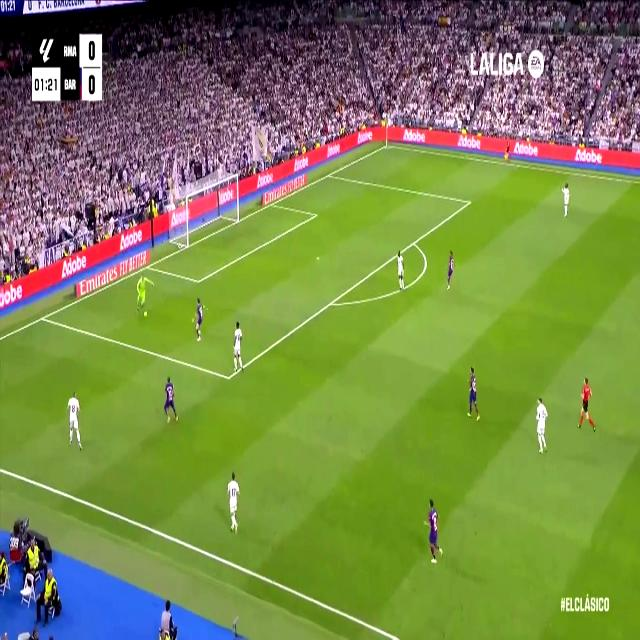bigarea_bottom_inner: (224, 368, 233, 388)
bigarea_bottom_outter: (38, 310, 48, 326)
bigarea_top_inner: (466, 195, 471, 208)
bigarea_top_outter: (326, 169, 332, 179)
bottom_arc_area_intersection: (326, 294, 336, 311)
corner: (383, 139, 391, 149)
smallarea_bottom_inner: (194, 273, 202, 289)
smallarea_top_inner: (312, 210, 318, 220)
top_arc_area_intersection: (411, 236, 417, 248)
